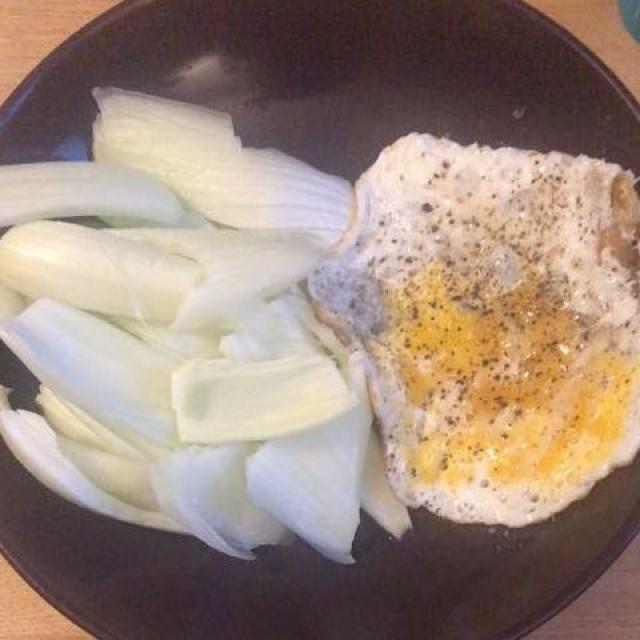cake: (2, 59, 420, 577)
egg: (316, 133, 639, 535)
